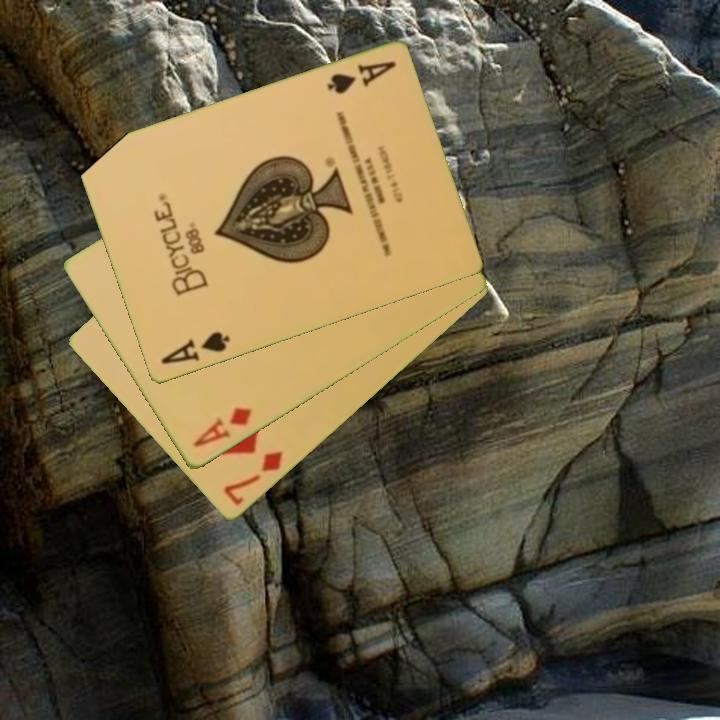7d: (220, 448, 286, 510)
Ad: (189, 404, 255, 451)
As: (157, 328, 233, 368), (323, 58, 399, 98)
